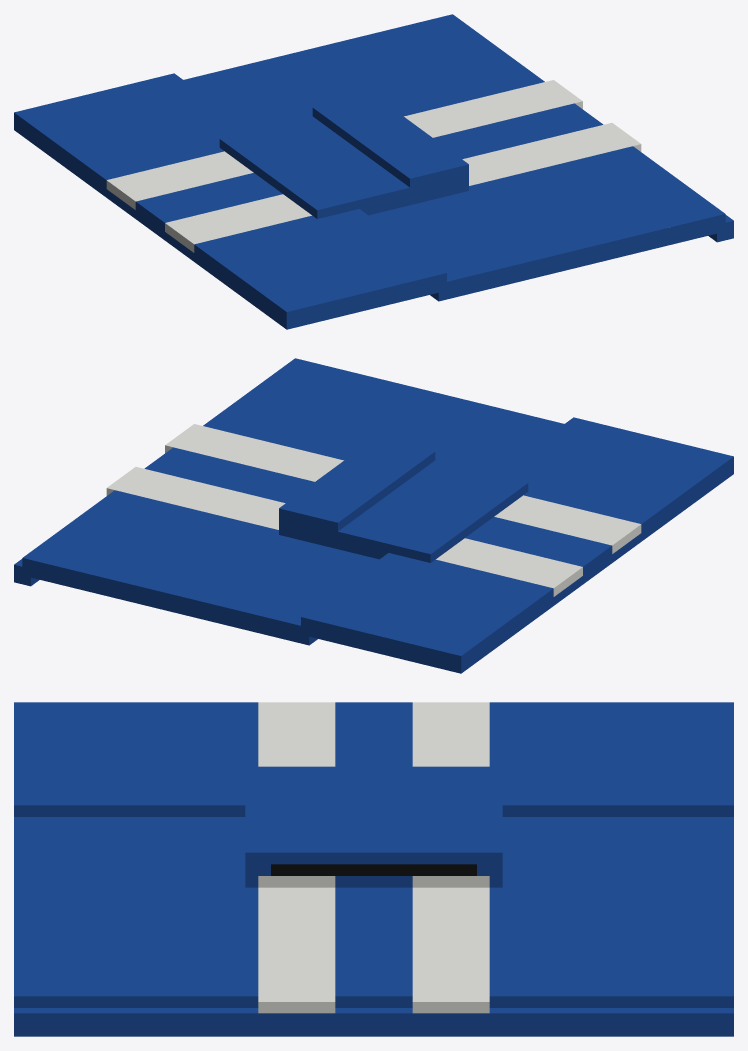
File: muscle_car_bonnet.glb
3 views of the same model, one above another, from view 1: azimuth 30°, elevation 25°; view 2: azimuth 150°, elevation 25°; view 3: azimuth 270°, elevation 25° (orthographic). The views are drawn at different scales.
Visible parts, largest first — view 1: body:compound; view 2: body:compound; view 3: body:compound.
Part boxes in pixels (box(x1,y1,x2,y2)): body:compound: box(14, 14, 733, 329); body:compound: box(14, 358, 733, 673); body:compound: box(14, 702, 733, 1036).
Bounding box in the file's own units: 1.66 × 0.1875 × 1.75.
